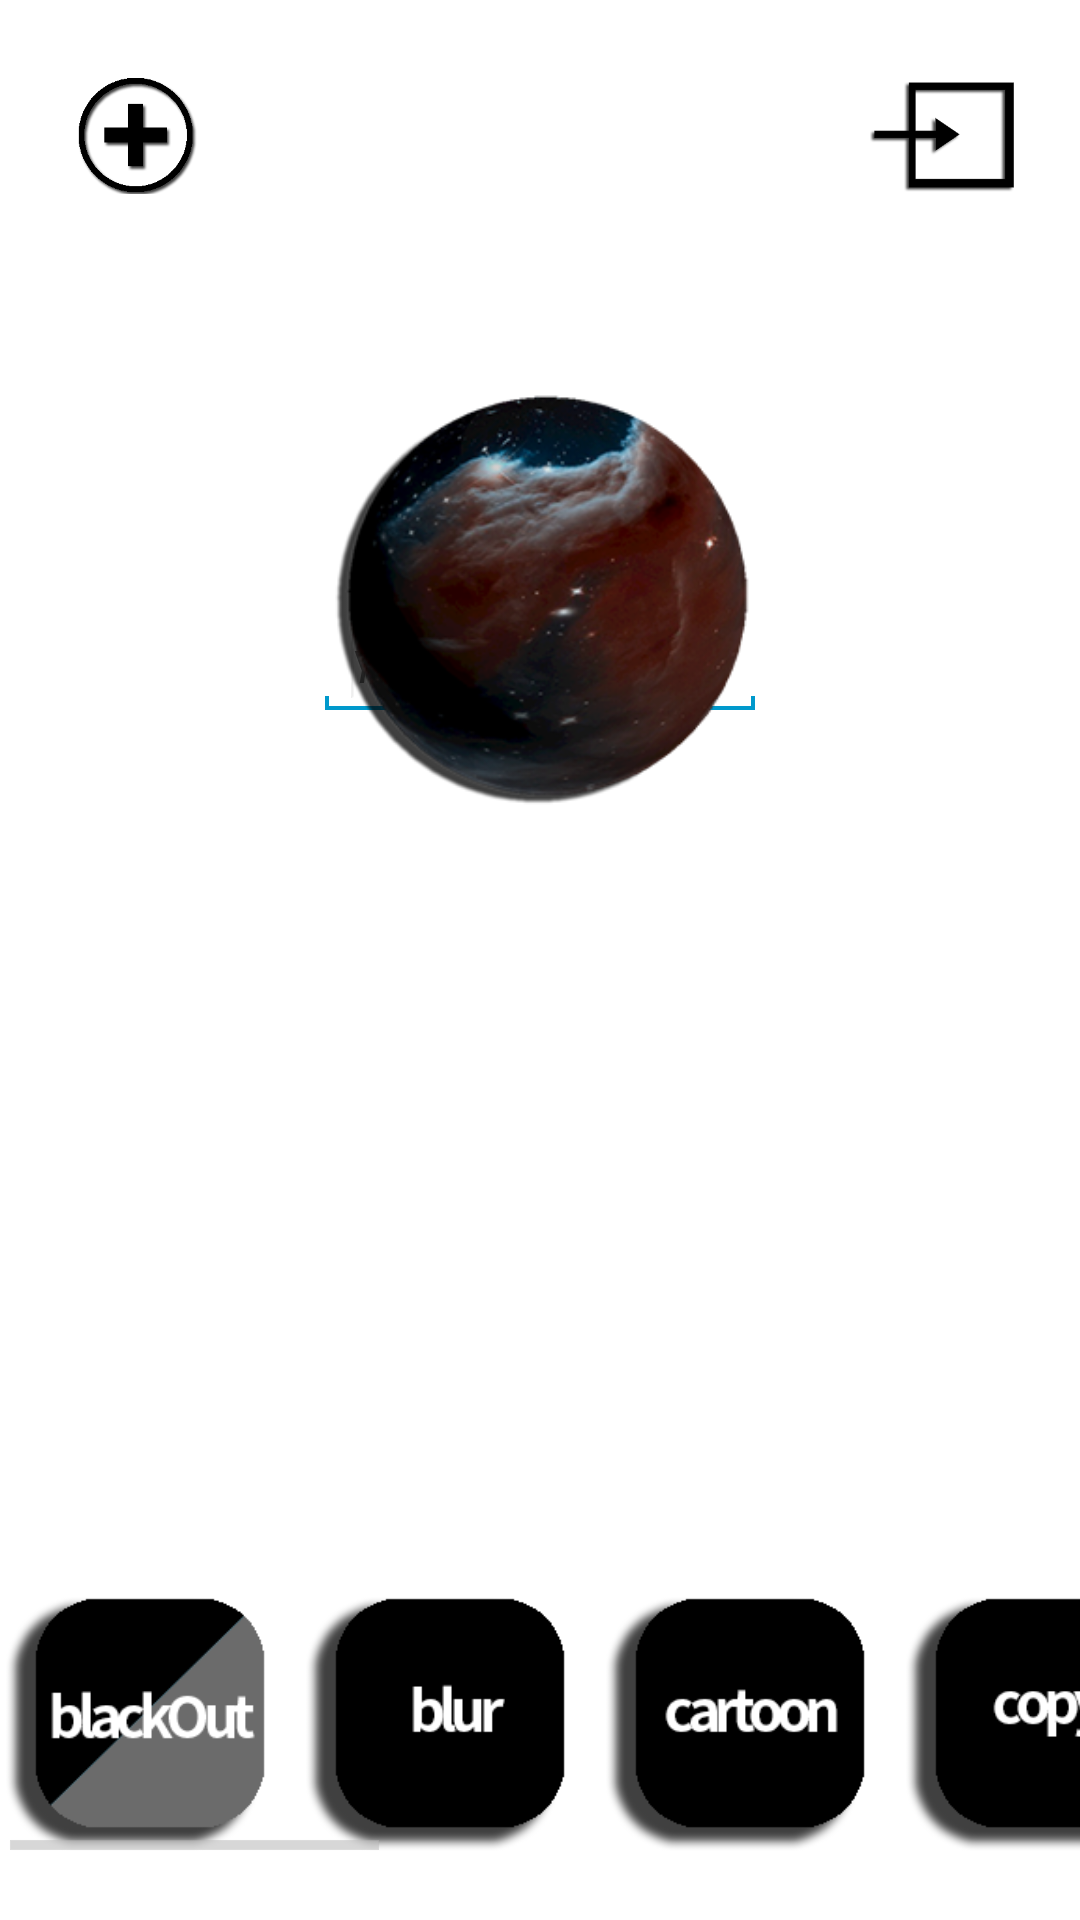

Named icons in this screenshot (1080 x 1920) and their bounding boxes, rect(x1, y1, x2, y2):
add: rect(78, 78, 196, 194)
